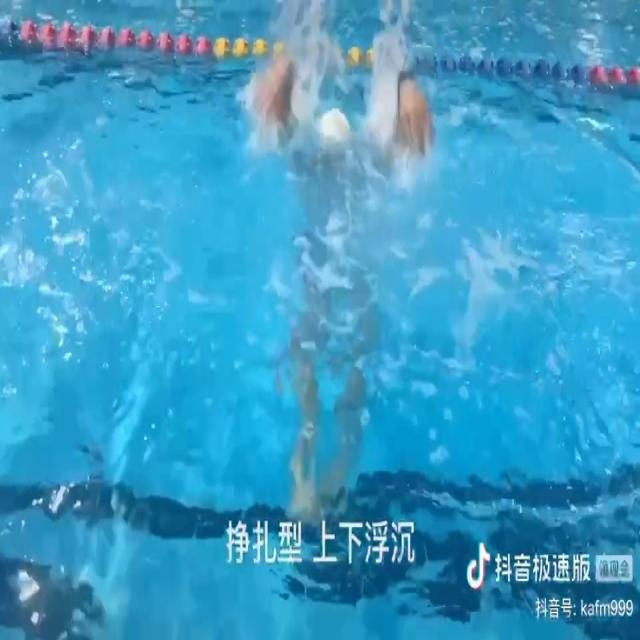Drowning: (251, 41, 435, 518)
